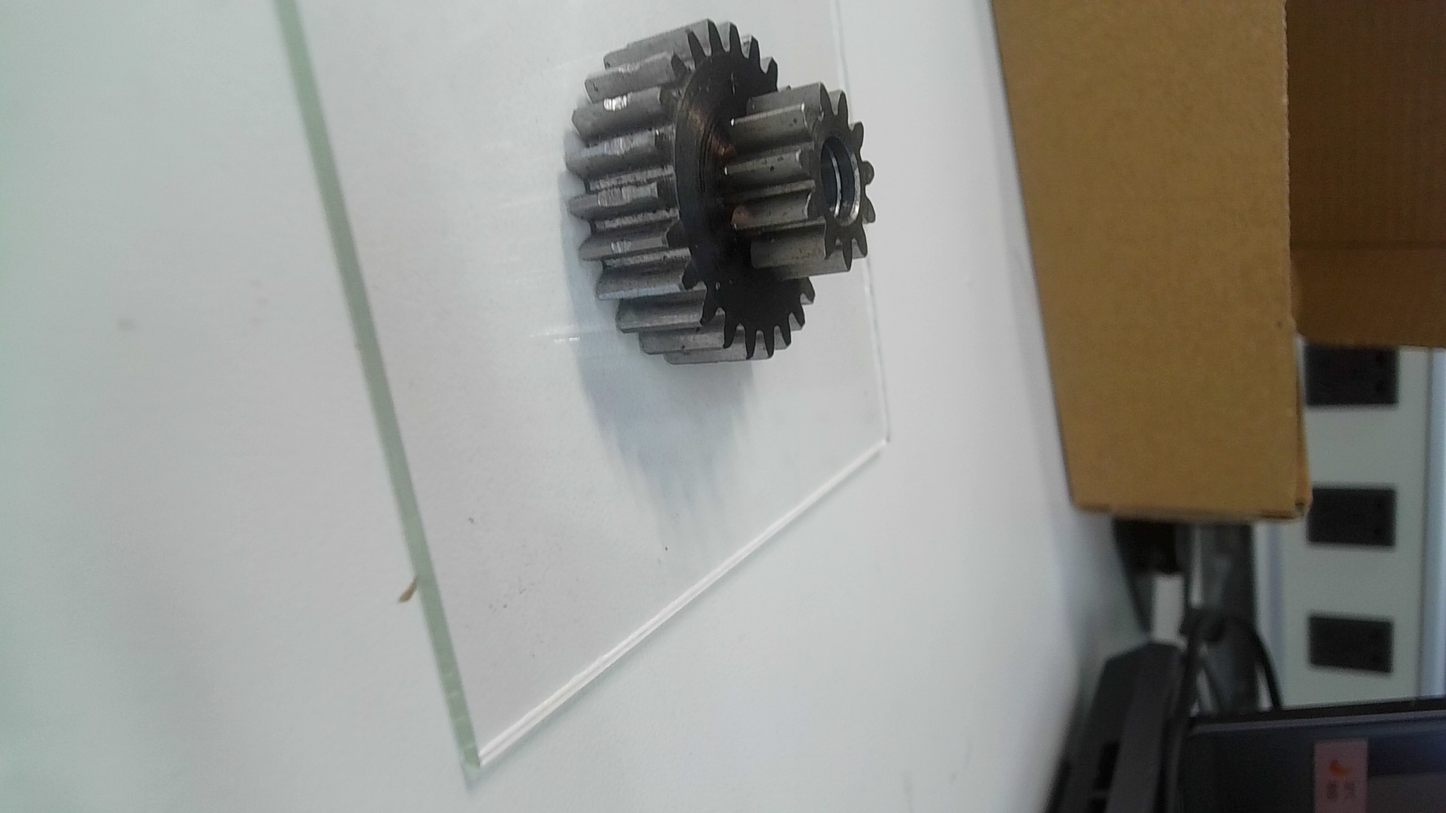gear: (565, 16, 884, 371)
